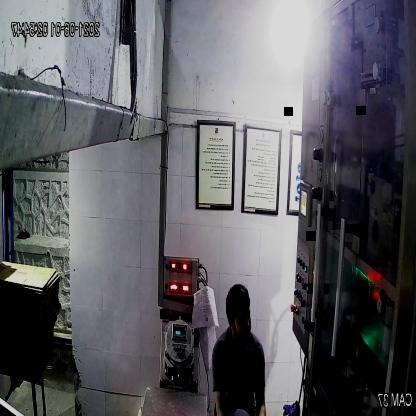no_goggles: (228, 307, 255, 329)
